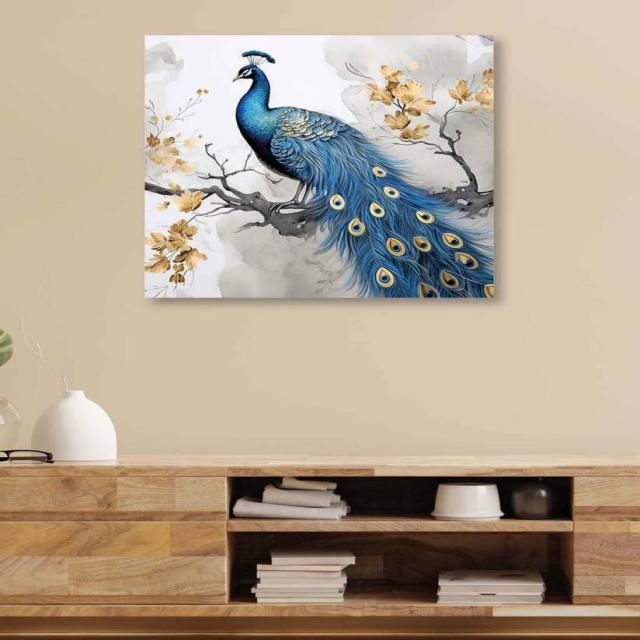painting: (143, 31, 498, 300)
